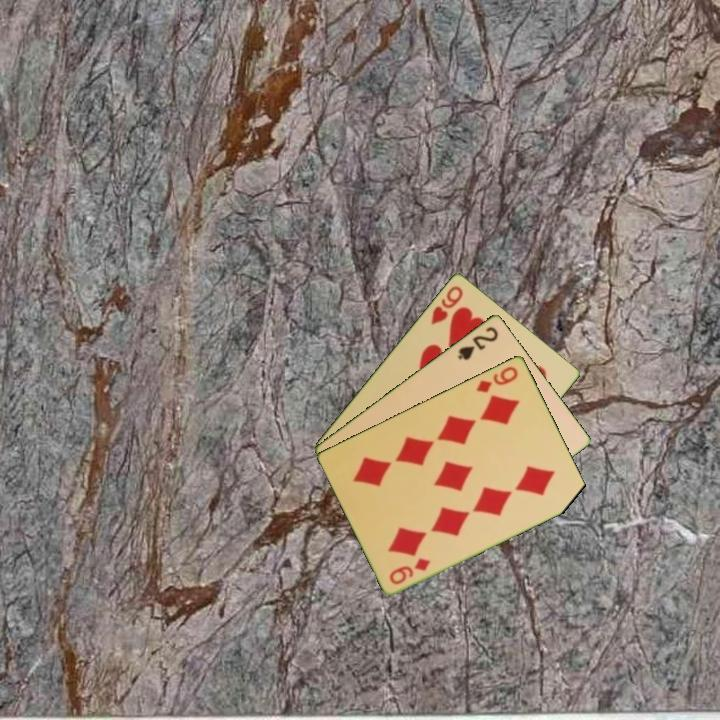2s: (454, 323, 501, 363)
9d: (473, 362, 521, 396), (386, 554, 434, 587)
9h: (427, 282, 466, 327)
